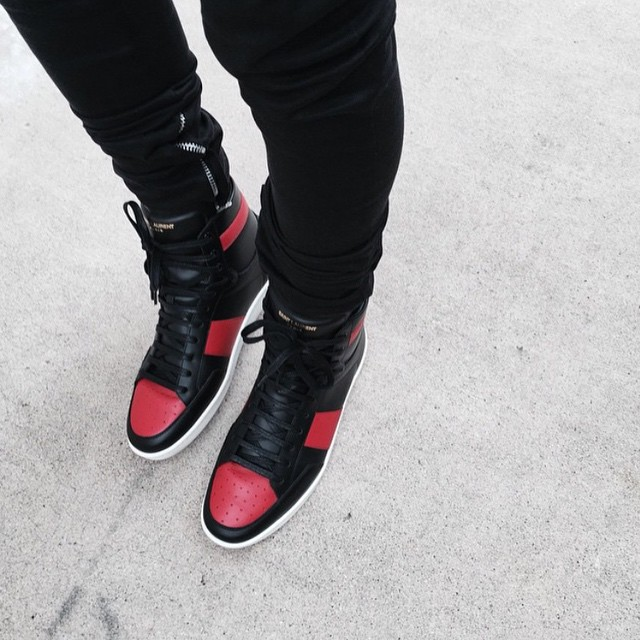sneaker: (178, 264, 407, 569), (110, 173, 278, 483)
